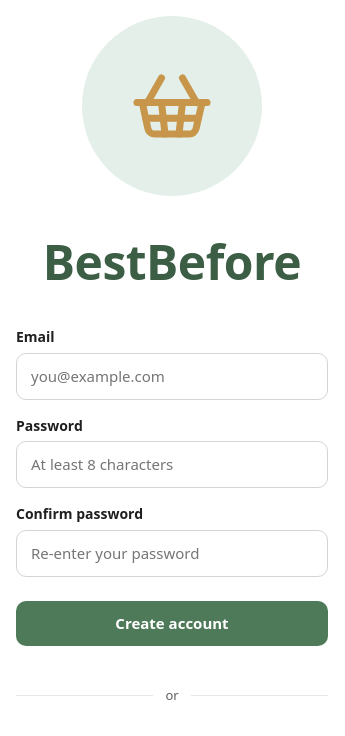
Test: Register › shows inline errors when submitted empty
This screenshot has width=345, height=736.
Click the button "Create account": (172, 624) [16,601,328,646]
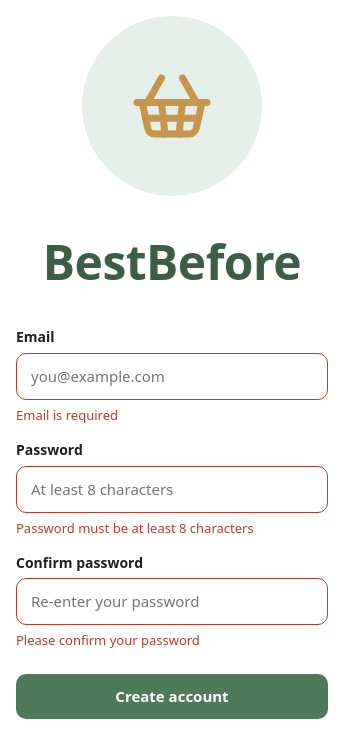
Now the text "Email is required" is shown, box [16,406,118,424]
Now the text "Password must be at least 8 characters" is shown, box [16,519,254,537]
Now the text "Please confirm your password" is shown, box [16,631,200,649]
